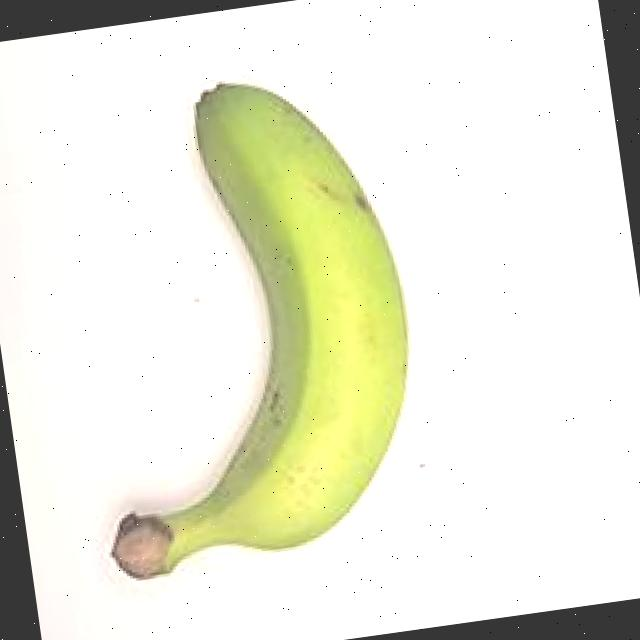Unripe: (24, 34, 469, 622)
